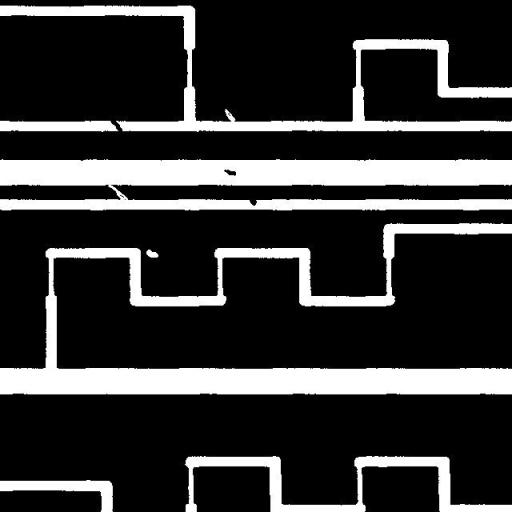copper: (216, 162, 243, 183)
mousebite: (217, 100, 242, 130)
open: (99, 174, 135, 208)
pin-hole: (138, 242, 166, 264)
short: (103, 112, 130, 139)
spur: (240, 186, 264, 213)
